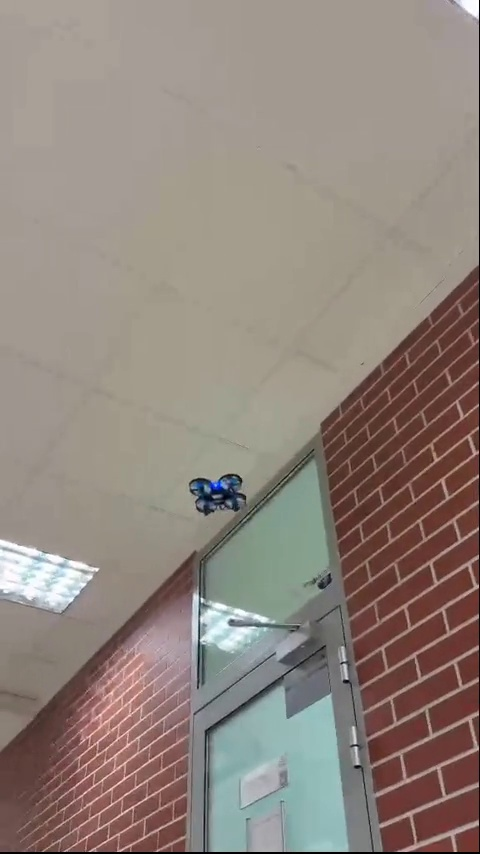drone: (188, 476, 248, 511)
